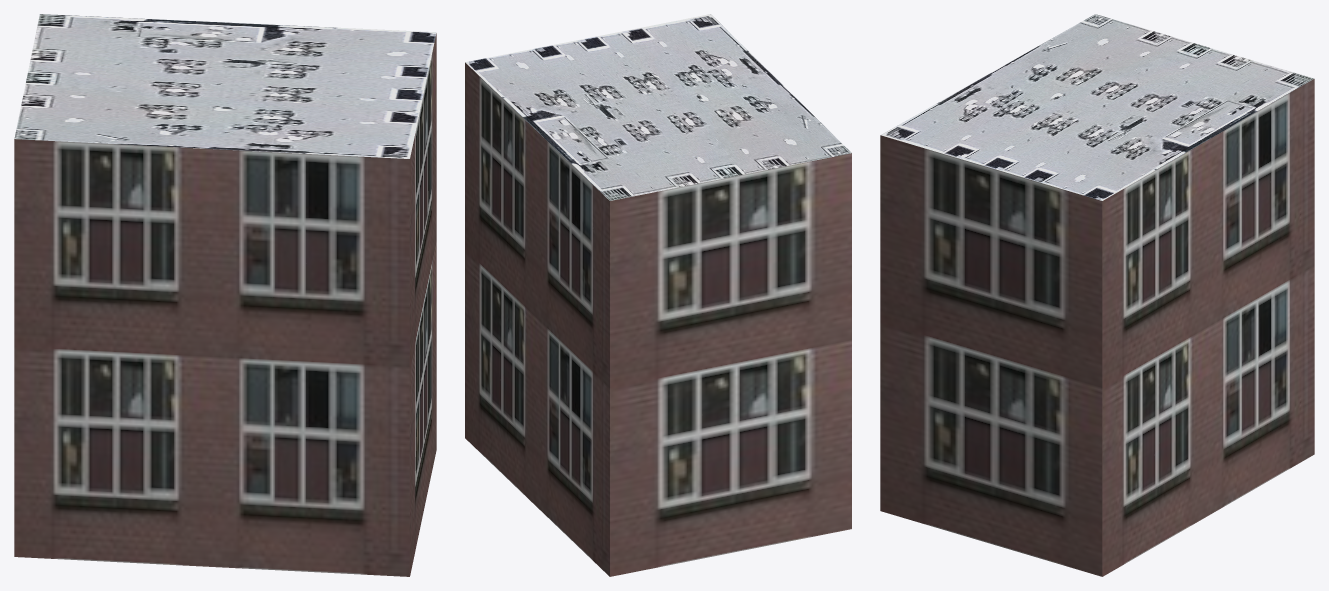
Rendered from ResTex__1891.fbx.
3 views of the same model, side by side, from view 1: azimuth 30°, elevation 25°; view 2: azimuth 150°, elevation 25°; view 3: azimuth 270°, elevation 25° (orthographic). The views are drawn at different scales.
Parts seen in each view (by area): view 1: CityEngineMaterial_12_m, CityEngineMaterial_4_m; view 2: CityEngineMaterial_12_m, CityEngineMaterial_4_m; view 3: CityEngineMaterial_12_m, CityEngineMaterial_4_m.
Part boxes in pixels (x1,y1,x2,y2): CityEngineMaterial_12_m: [14, 33, 436, 576]; CityEngineMaterial_4_m: [14, 14, 436, 158]; CityEngineMaterial_12_m: [465, 62, 851, 576]; CityEngineMaterial_4_m: [465, 14, 851, 200]; CityEngineMaterial_12_m: [880, 79, 1314, 576]; CityEngineMaterial_4_m: [881, 14, 1313, 200].
Size of the model in its own units: 6.4 by 6 by 6.28.
2 materials, 2 textured.
